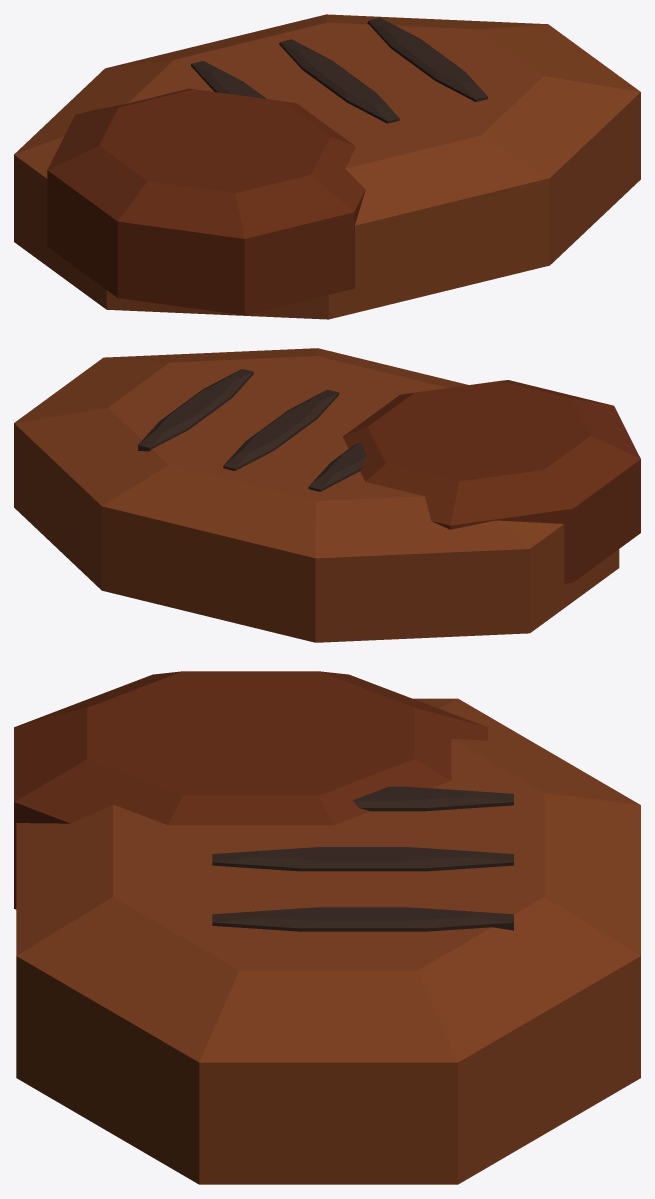
The model's file is beef-cooked.obj.
3 renders of one model, top to bottom at view 1: azimuth 30°, elevation 25°; view 2: azimuth 150°, elevation 25°; view 3: azimuth 270°, elevation 25°, orthographic. The views are drawn at different scales.
Parts seen in each view (by area): view 1: beef-cooked; view 2: beef-cooked; view 3: beef-cooked.
Part boxes in pixels (x1=…): beef-cooked: x1=14, y1=14, x2=640, y2=319; beef-cooked: x1=14, y1=348, x2=640, y2=642; beef-cooked: x1=14, y1=671, x2=640, y2=1184.
Bounding box in the file's own units: 0.4033 × 0.104 × 0.2904.
